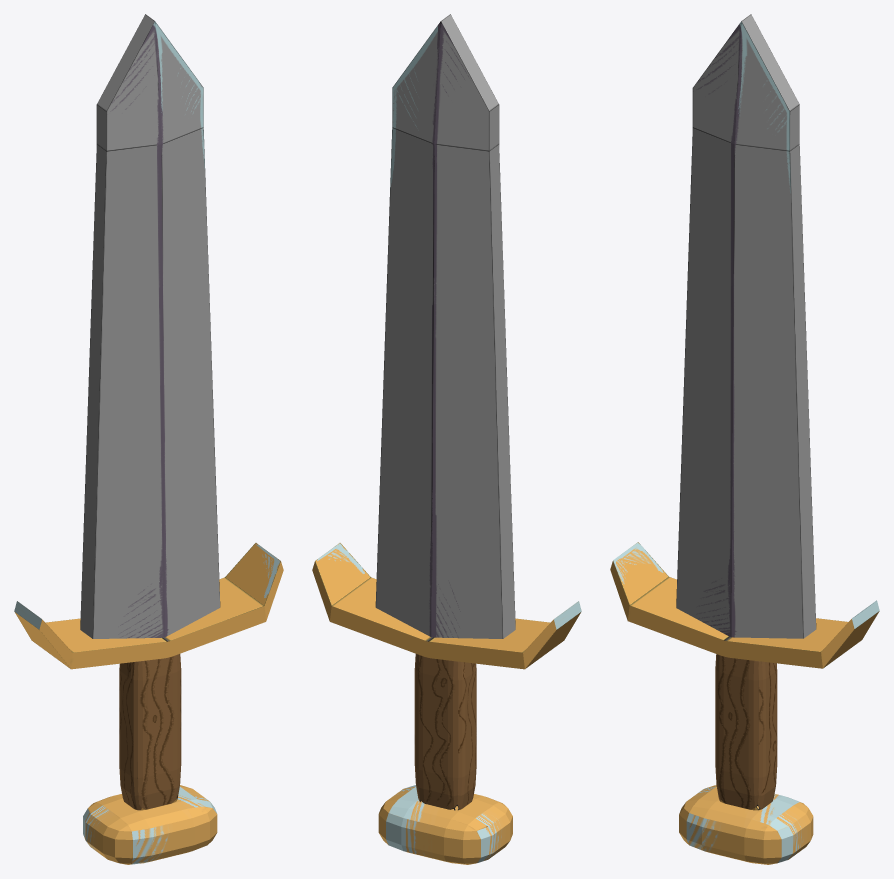
The model's file is swordd.fbx.
3 renders of one model, left to right at view 1: azimuth 30°, elevation 25°; view 2: azimuth 150°, elevation 25°; view 3: azimuth 330°, elevation 25°, orthographic.
Visible parts, largest first — view 1: ruchka; view 2: ruchka; view 3: ruchka.
Boxes of the visible parts, box(x1,y1,x2,y2) form: ruchka: box(14, 14, 283, 864); ruchka: box(312, 14, 581, 864); ruchka: box(610, 14, 879, 864).
Bounding box in the file's own units: 363 × 1181 × 119.
1 material, 1 textured.
